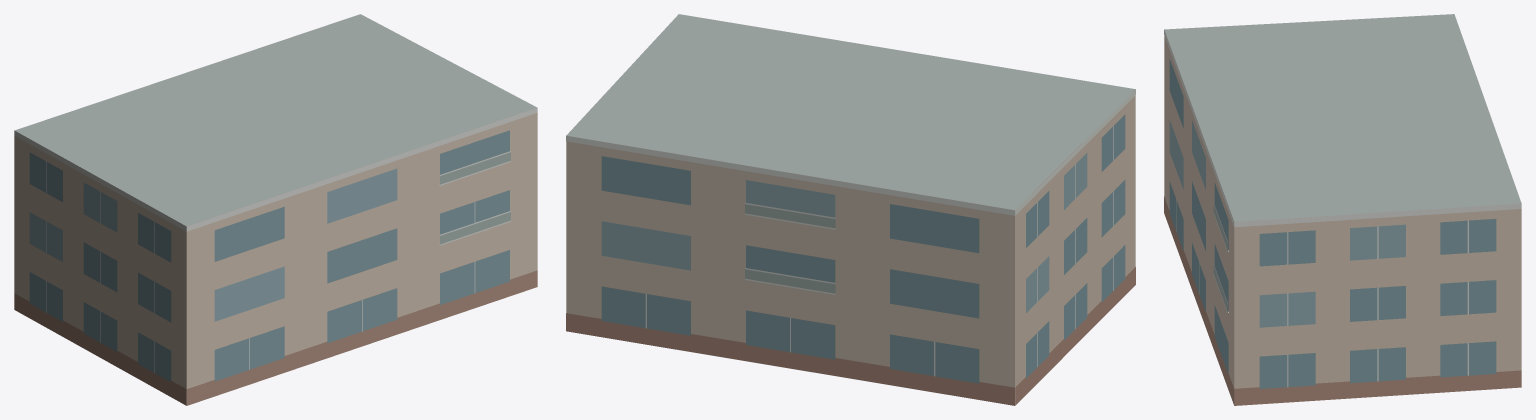
Rendered from survey-upis-32614427.glb.
3 views of the same model, side by side, from view 1: azimuth 30°, elevation 25°; view 2: azimuth 150°, elevation 25°; view 3: azimuth 270°, elevation 25° (orthographic). The views are drawn at different scales.
Parts seen in each view (by area): view 1: survey-upis-32614427.tmp; view 2: survey-upis-32614427.tmp; view 3: survey-upis-32614427.tmp.
Part boxes in pixels (x1,y1,x2,y2): survey-upis-32614427.tmp: (14,14,537,405); survey-upis-32614427.tmp: (566,14,1135,405); survey-upis-32614427.tmp: (1164,14,1521,405).
Bounding box in the file's own units: 20.62 × 8.5 × 14.98.
